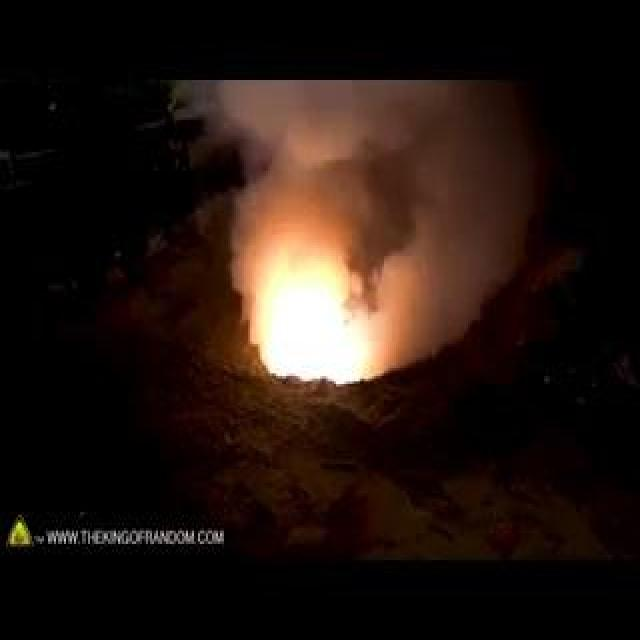Fire: (152, 176, 306, 286)
